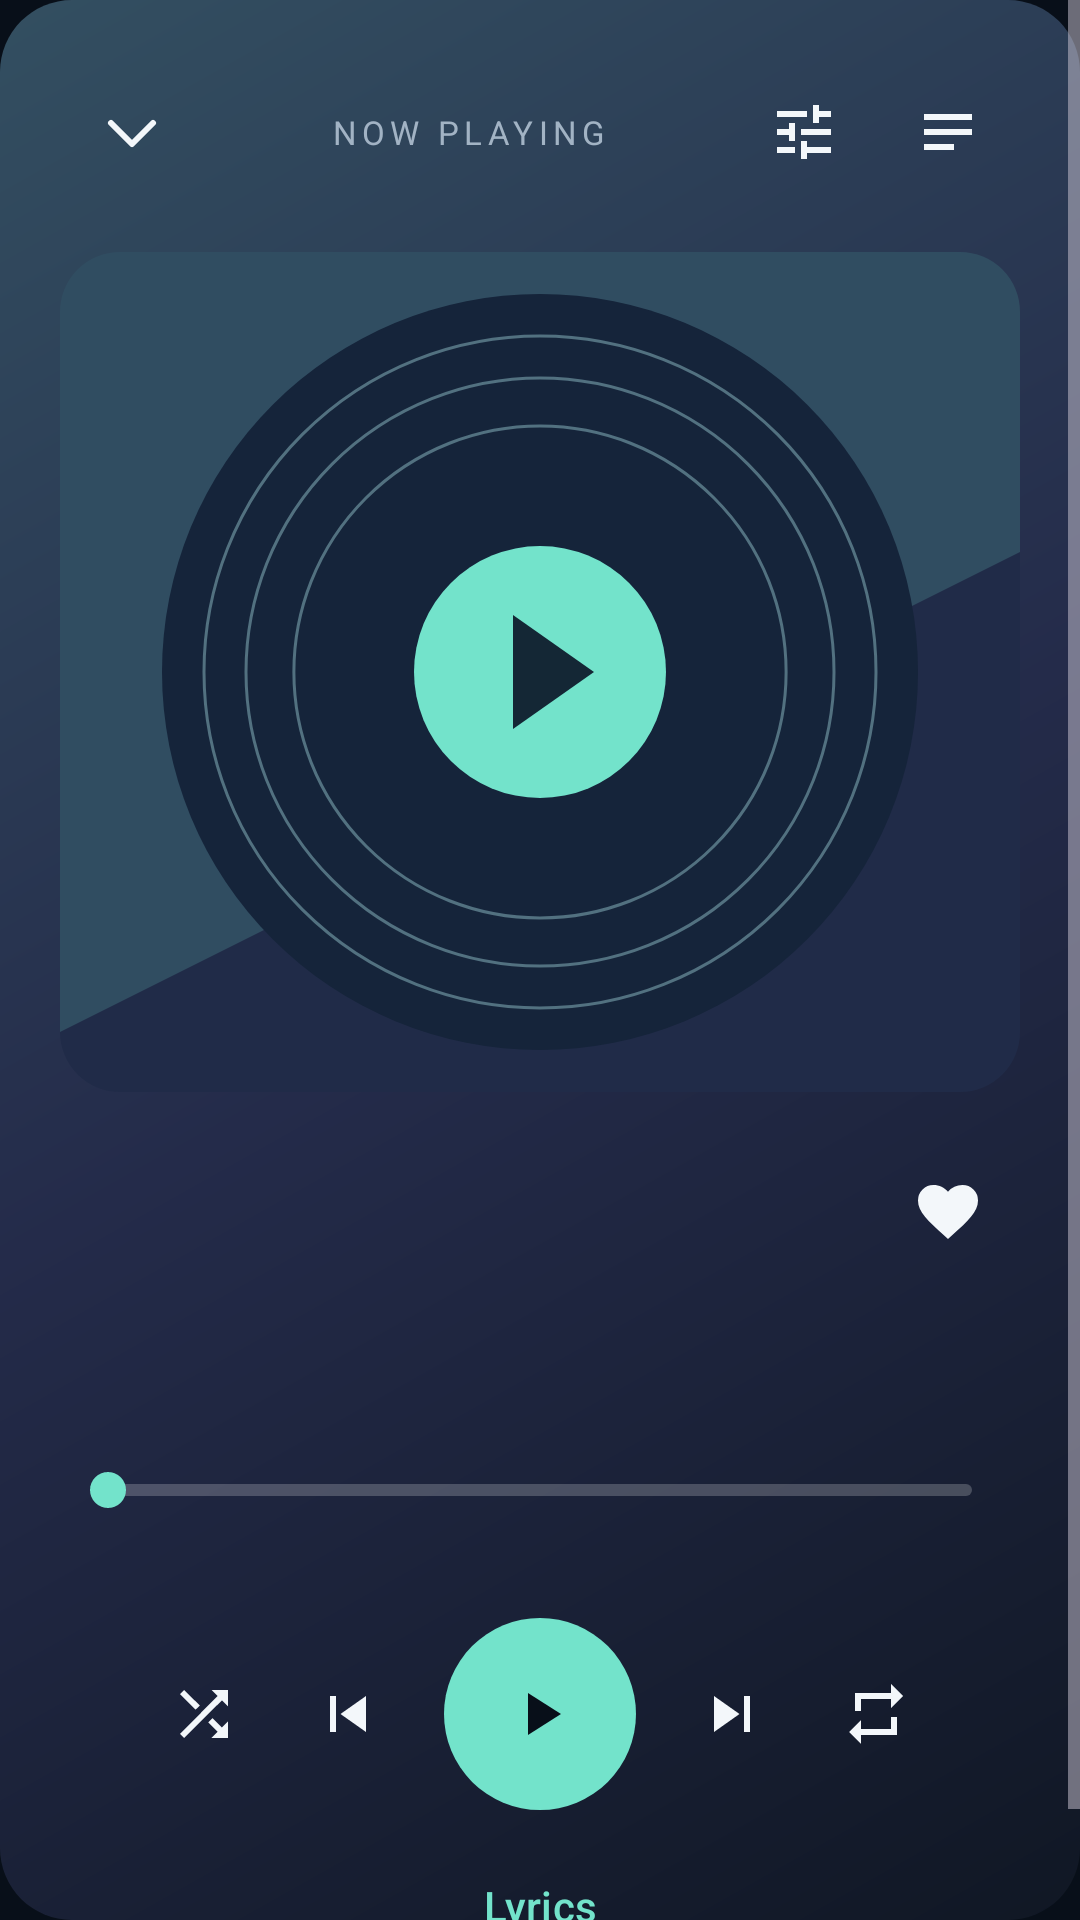

Icon click points for this 1080 × 1920 phone screenshot, format (x,y):
Add or remove this song from favorites: (948,1212)
Back: (132,133)
Next: (732,1714)
Play: (540,1714)
Previous: (348,1714)
Queue: (948,132)
Repeat: (876,1714)
Shuffle: (204,1714)
